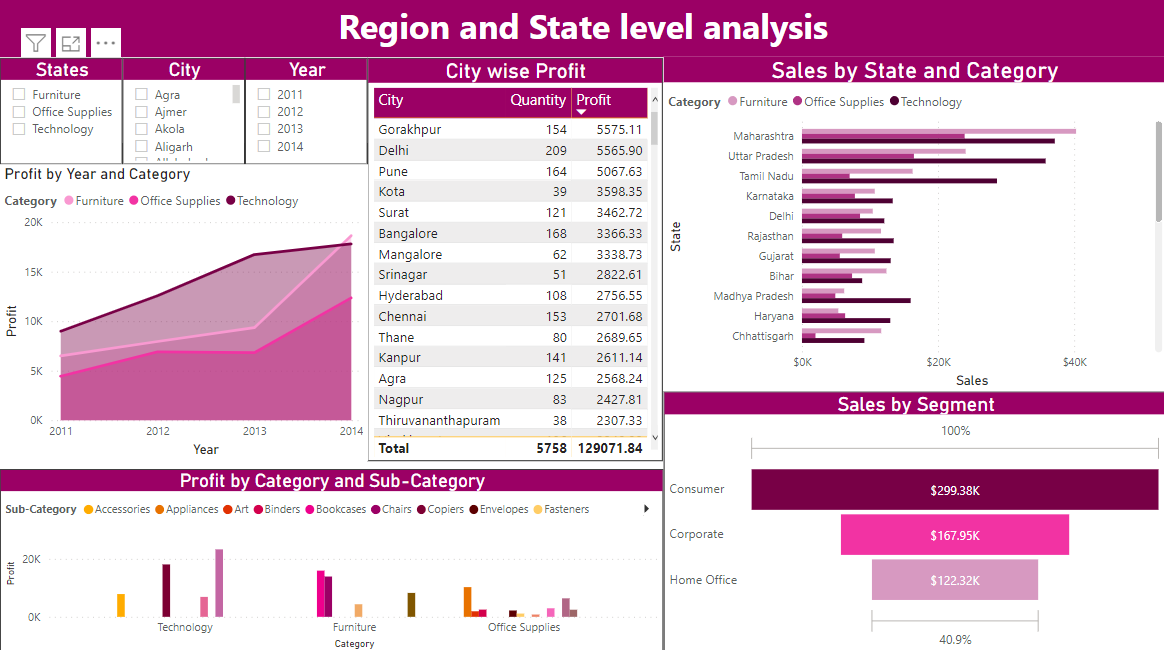

This screenshot's page, from the dashboard's own definition file:
{"tool":"powerbi","page":{"name":"Region and State Analysis","canvas":[1280,720],"ordinal":1},"visuals":[{"type":"textbox","box":[9.6,0,1270.4,76.9],"z":0},{"type":"textbox","box":[0,0,1280,64.5],"z":1000},{"type":"slicer","title":"Year","fields":{"Values":["Orders.Order Date.Variation.Date Hierarchy.Year"]},"box":[269.2,65.9,134.6,116.7],"z":2000},{"type":"slicer","title":"City","fields":{"Values":["Orders.City"]},"box":[134.6,65.9,134.6,116.7],"z":3000},{"type":"slicer","title":"States","fields":{"Values":["Orders.Category"]},"box":[0,65.9,134.6,116.7],"z":4000},{"type":"tableEx","title":"City wise Profit","fields":{"Values":["Orders.City","Sum(Orders.Quantity)","Sum(Orders.Profit)"]},"box":[403.8,65.9,324.1,442.2],"z":5000},{"type":"clusteredBarChart","fields":{"Y":["Sum(Orders.Sales)"],"Category":["Orders.State"],"Series":["Orders.Category"]},"box":[727.9,64.5,552.1,368.1],"z":6000},{"type":"areaChart","fields":{"Category":["Orders.Year"],"Series":["Orders.Category"],"Y":["Sum(Orders.Profit)"]},"box":[0,182.7,403.8,325.5],"z":7000},{"type":"lineClusteredColumnComboChart","fields":{"Category":["Orders.Category"],"Series":["Orders.Sub-Category"],"Y":["Sum(Orders.Profit)"]},"box":[0,517.8,727.9,201.9],"z":8000},{"type":"funnel","fields":{"Category":["Orders.Segment"],"Y":["Sum(Orders.Sales)"]},"box":[727.9,432.6,552.1,287],"z":9000}]}

Visuals, with their boxes in screenshot pixels (x1, y1, x2, y2), scaled from the page's 1280x720 canvas onto the 1164x650 screenshot:
textbox: box=[9, 0, 1163, 69]
textbox: box=[0, 0, 1163, 58]
"Year" slicer: box=[245, 59, 367, 165]
"City" slicer: box=[122, 59, 245, 165]
"States" slicer: box=[0, 59, 122, 165]
"City wise Profit" tableEx: box=[367, 59, 662, 459]
clusteredBarChart - Sum(Orders.Sales) x Orders.State: box=[662, 58, 1163, 391]
areaChart - Orders.Year x Orders.Category: box=[0, 165, 367, 459]
lineClusteredColumnComboChart - Orders.Category x Orders.Sub-Category: box=[0, 467, 662, 649]
funnel - Orders.Segment x Sum(Orders.Sales): box=[662, 391, 1163, 649]
